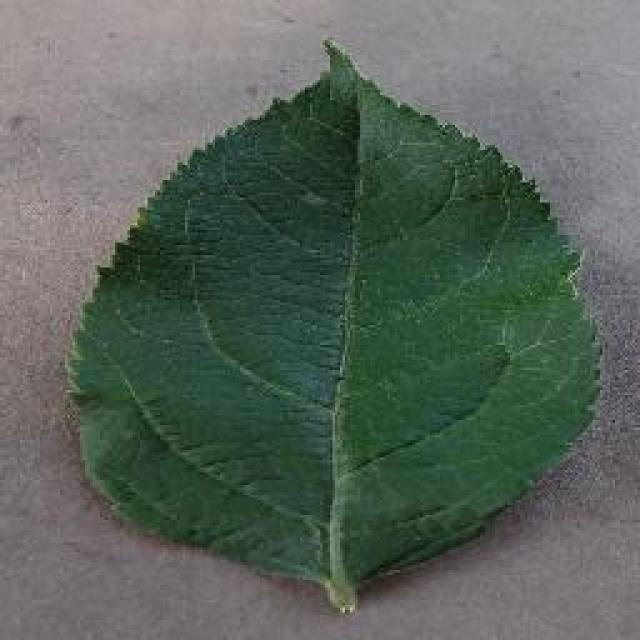apple healthy: (63, 35, 605, 615)
